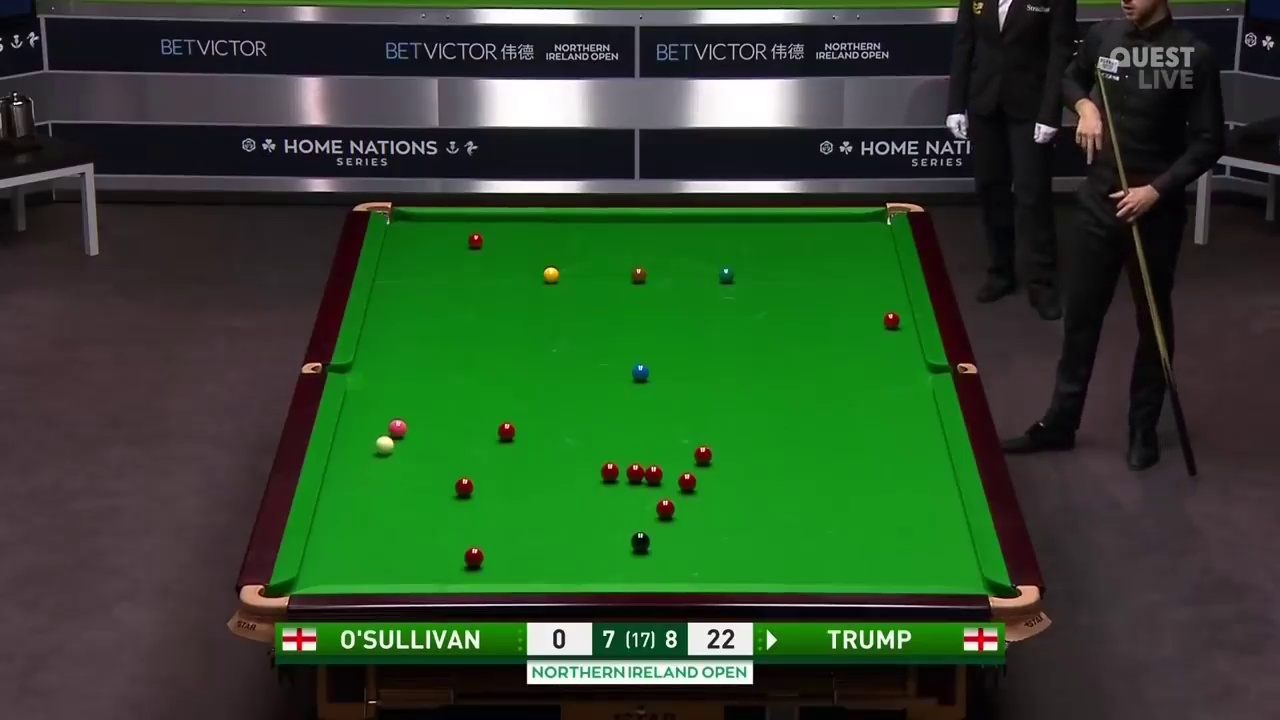ball: (675, 471, 699, 493), (538, 264, 562, 285), (374, 434, 398, 454), (692, 447, 713, 468), (453, 474, 473, 496), (631, 532, 652, 552), (643, 464, 663, 485), (630, 365, 651, 385), (464, 547, 484, 567), (717, 264, 737, 283), (468, 230, 485, 251), (602, 464, 623, 481), (881, 310, 900, 328), (657, 499, 676, 517), (631, 265, 648, 283), (497, 422, 515, 438)
